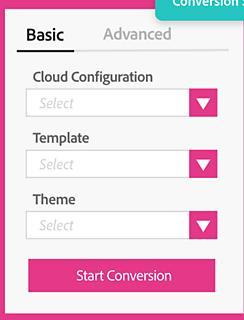button: (27, 258, 218, 295)
dropdown: (26, 211, 220, 242), (27, 89, 219, 119), (26, 150, 218, 179)
label: (34, 72, 158, 85), (32, 133, 93, 148), (31, 192, 79, 209)
